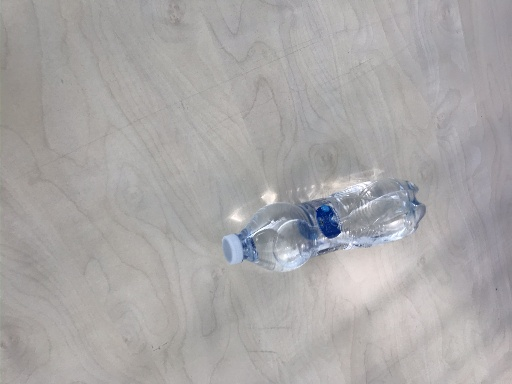Acqua: (221, 178, 427, 274)
